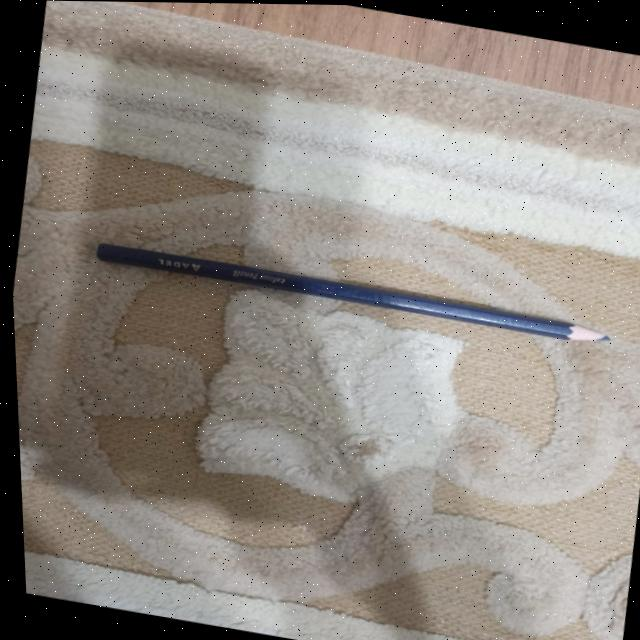pencil: (80, 227, 618, 356)
